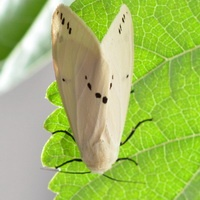insect: (52, 4, 133, 172)
